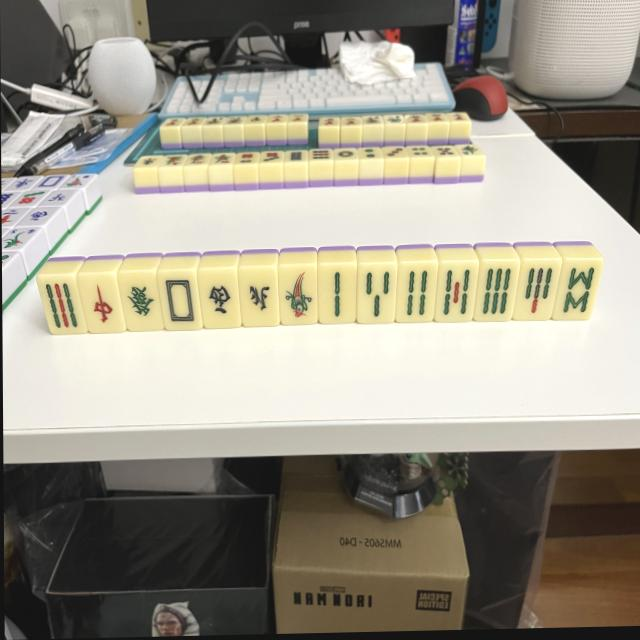bai: (158, 272, 202, 330)
fa: (117, 271, 164, 331)
north: (238, 269, 279, 326)
s1: (279, 264, 318, 323)
s2: (317, 263, 356, 322)
s3: (355, 264, 395, 321)
s4: (395, 263, 437, 322)
s5: (435, 262, 479, 322)
s6: (474, 262, 521, 322)
s7: (512, 260, 561, 321)
s8: (551, 259, 602, 321)
s9: (39, 277, 89, 337)
west: (197, 270, 241, 328)
zhong: (78, 274, 127, 334)
